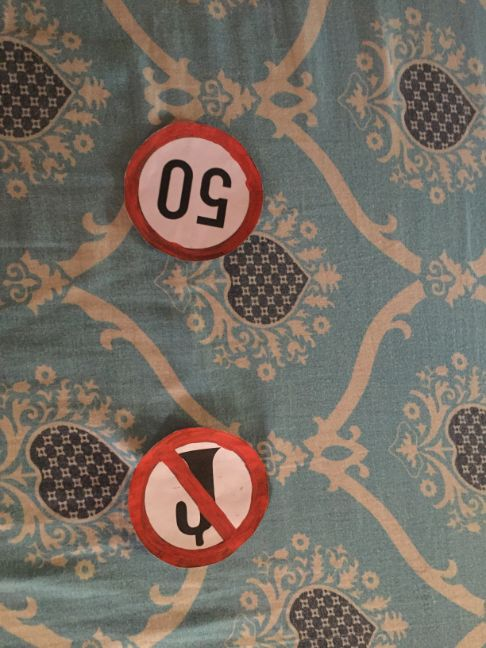no-horn: (126, 427, 267, 564)
speed-50: (122, 122, 262, 259)
